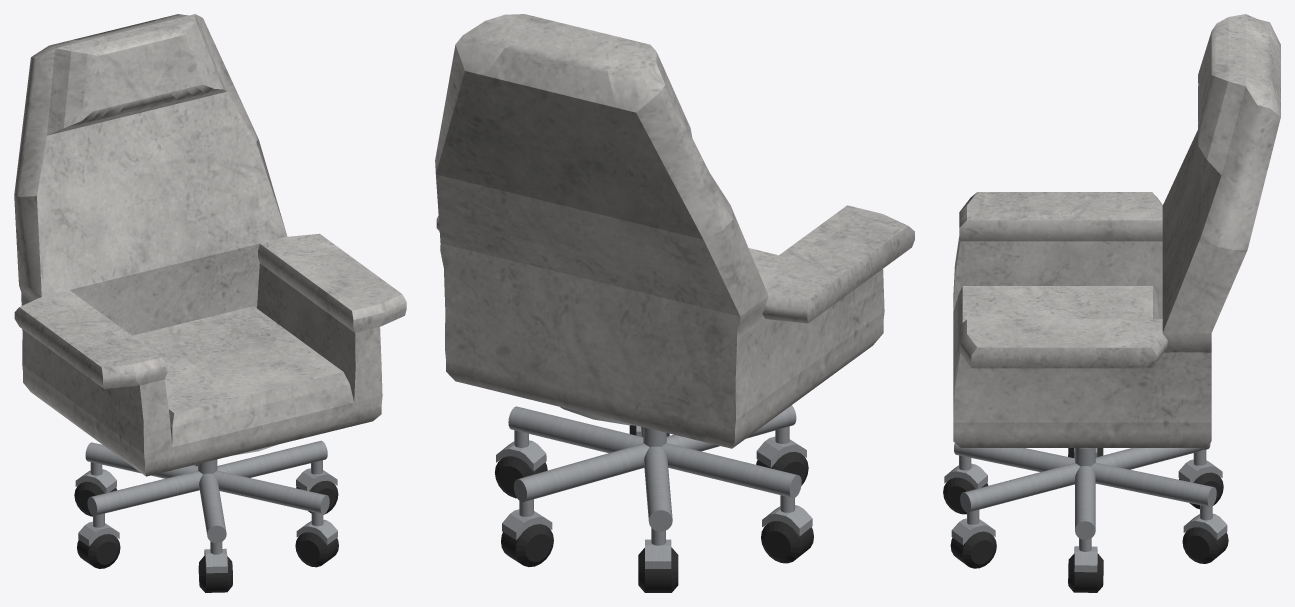
File: DoctorChiar.fbx
3 views of the same model, side by side, from view 1: azimuth 30°, elevation 25°; view 2: azimuth 150°, elevation 25°; view 3: azimuth 270°, elevation 25° (orthographic). The views are drawn at different scales.
Parts seen in each view (by area): view 1: pCube58, pCylinder58, pCylinder60, pCylinder61, pCylinder66, pCylinder73, pCylinder59, pCylinder68, pCube61, pCube59, pCube62, pCube63; view 2: pCube58, pCylinder58, pCylinder61, pCylinder60, pCylinder64, pCylinder73, pCylinder68, pCylinder72, pCube63, pCube59, pCube64, pCube60 (+2 smaller); view 3: pCube58, pCylinder61, pCylinder60, pCylinder58, pCylinder66, pCylinder64, pCylinder72, pCylinder59, pCube61, pCube60, pCube64, pCube62 (+2 smaller).
Part boxes in pixels (x1,y1,x2,y2): pCube58: [14, 14, 406, 476]; pCylinder58: [87, 440, 327, 515]; pCylinder60: [85, 442, 329, 514]; pCylinder61: [195, 464, 226, 543]; pCylinder66: [295, 532, 338, 567]; pCylinder73: [77, 534, 120, 568]; pCylinder59: [198, 555, 232, 592]; pCylinder68: [74, 481, 116, 516]; pCube61: [296, 519, 337, 544]; pCube59: [78, 521, 119, 546]; pCube62: [75, 469, 116, 493]; pCube63: [296, 468, 337, 490]; pCube58: [435, 14, 914, 448]; pCylinder58: [508, 406, 801, 498]; pCylinder61: [513, 405, 796, 502]; pCylinder60: [641, 426, 672, 531]; pCylinder64: [501, 524, 553, 566]; pCylinder73: [761, 521, 813, 563]; pCylinder68: [638, 547, 678, 592]; pCylinder72: [495, 456, 547, 498]; pCube63: [496, 440, 546, 471]; pCube59: [762, 505, 812, 535]; pCube64: [756, 436, 806, 467]; pCube60: [502, 509, 552, 540]; pCube58: [953, 14, 1280, 447]; pCylinder61: [954, 443, 1216, 507]; pCylinder60: [960, 443, 1210, 512]; pCylinder58: [1075, 466, 1095, 539]; pCylinder66: [950, 531, 996, 568]; pCylinder64: [1182, 527, 1228, 563]; pCylinder72: [1068, 553, 1103, 592]; pCylinder59: [943, 477, 988, 514]; pCube61: [951, 518, 995, 544]; pCube60: [1183, 513, 1227, 539]; pCube64: [944, 463, 987, 488]; pCube62: [1178, 459, 1222, 482].
Size of the model in its own units: 1.2 by 1.71 by 1.09.
